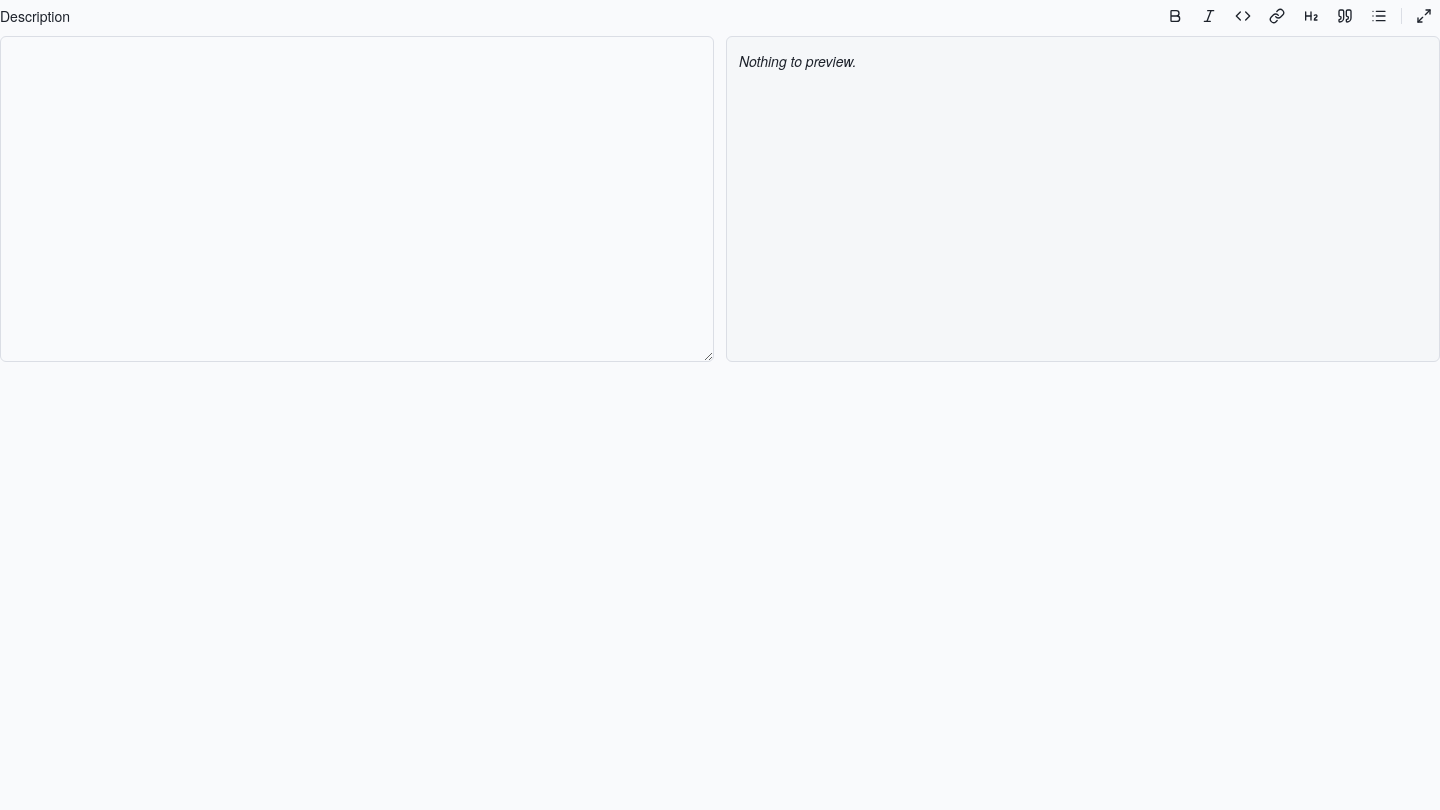
opens the same field over the window and gives it back on Done
In the text box named "Description": coordinates (357, 199) [1,37,713,361], type "Half a sentence"
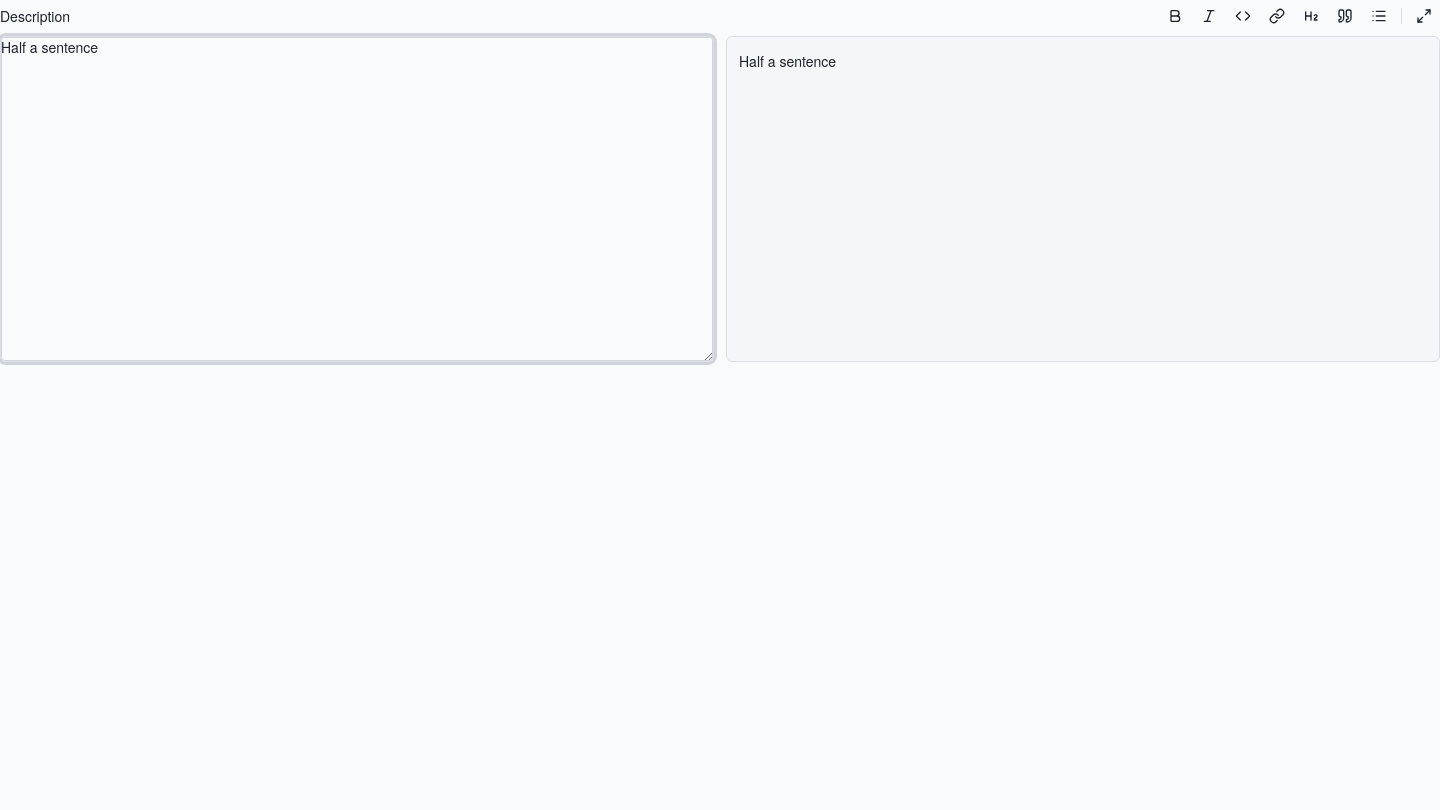
Click the button named "Full screen": coordinates (1424, 16) [1408,0,1439,32]
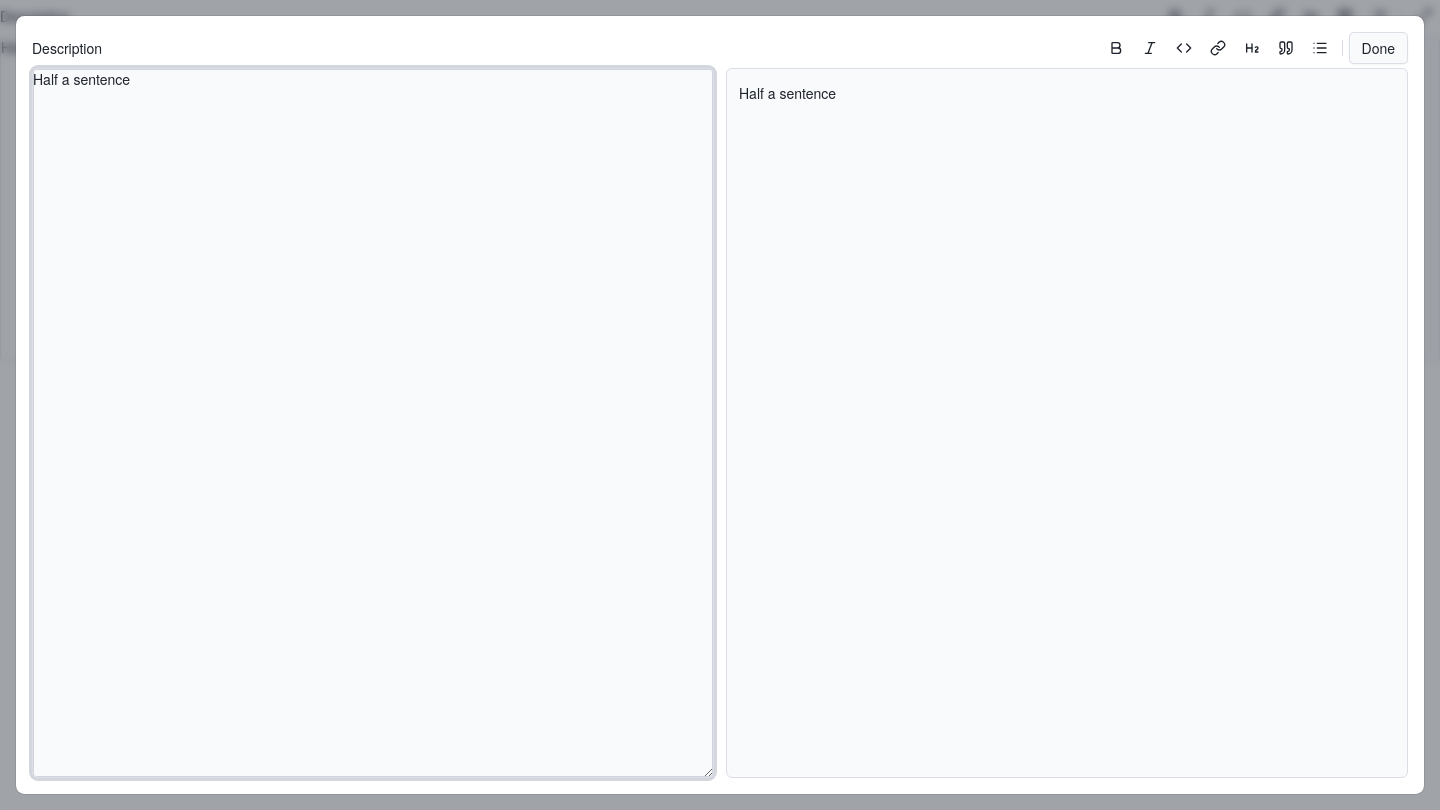
expect the text box named "Description" holds "Half a sentence": met, box [33,69,713,777]
Click the button "Done": coordinates (1378, 48) [1348,32,1408,64]
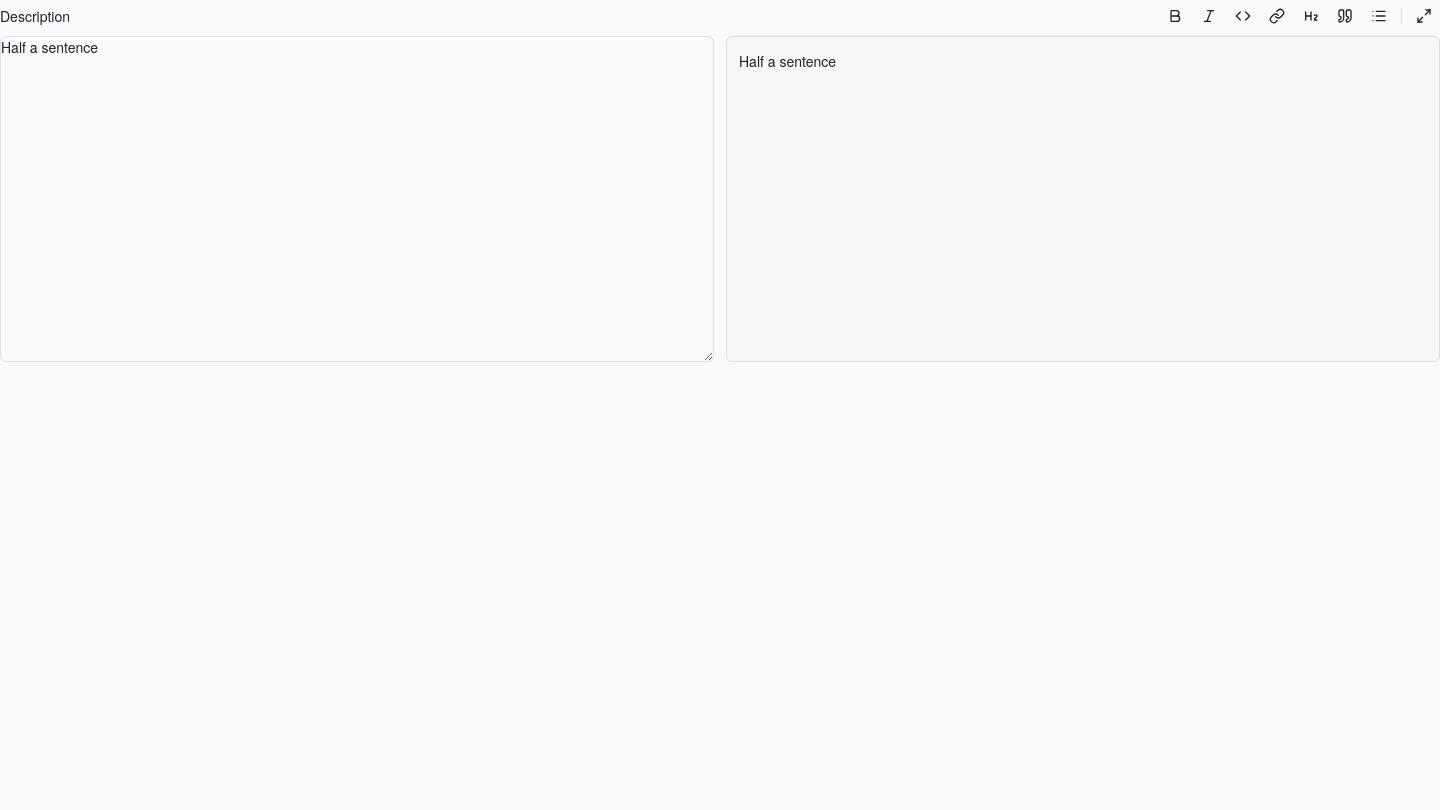
expect the dialog is gone: met
